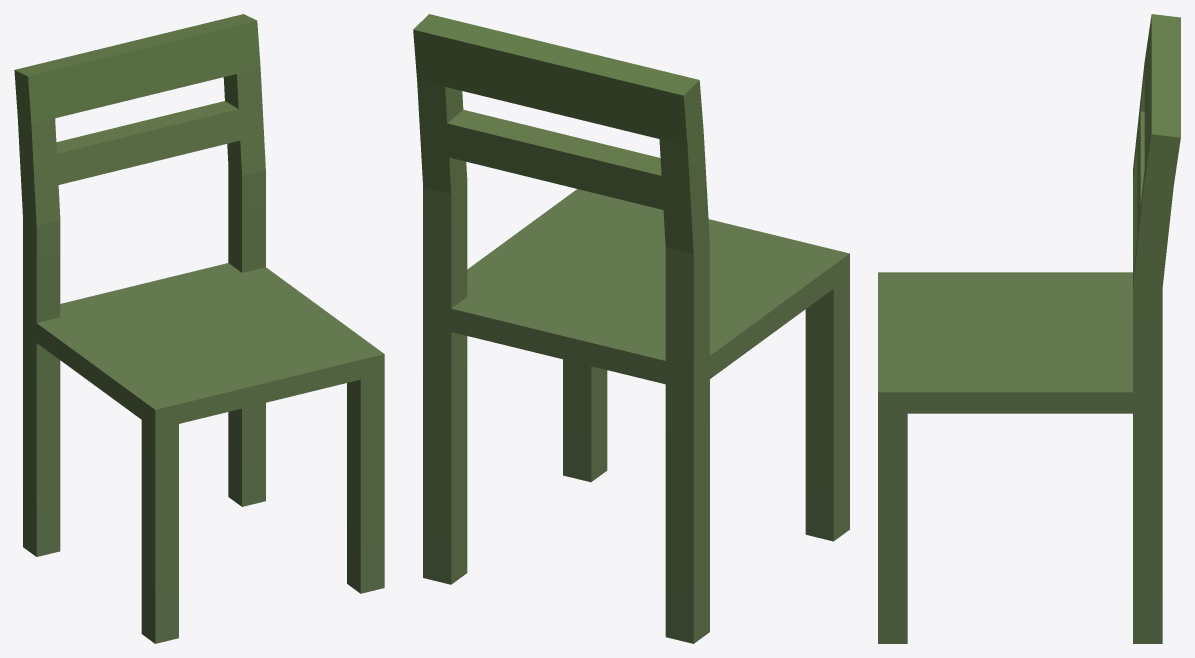
File: Chair_09.fbx
The picture shows the model from 3 angles, left to right: view 1: azimuth 30°, elevation 25°; view 2: azimuth 150°, elevation 25°; view 3: azimuth 270°, elevation 25°; orthographic projection. The views are drawn at different scales.
Parts seen in each view (by area): view 1: Chair_09; view 2: Chair_09; view 3: Chair_09.
Boxes of the visible parts, x1,y1,x2,y2 form: Chair_09: (14,14,384,643); Chair_09: (413,14,849,643); Chair_09: (878,14,1180,643).
Size of the model in its own units: 0.5009 by 0.99 by 0.533.
